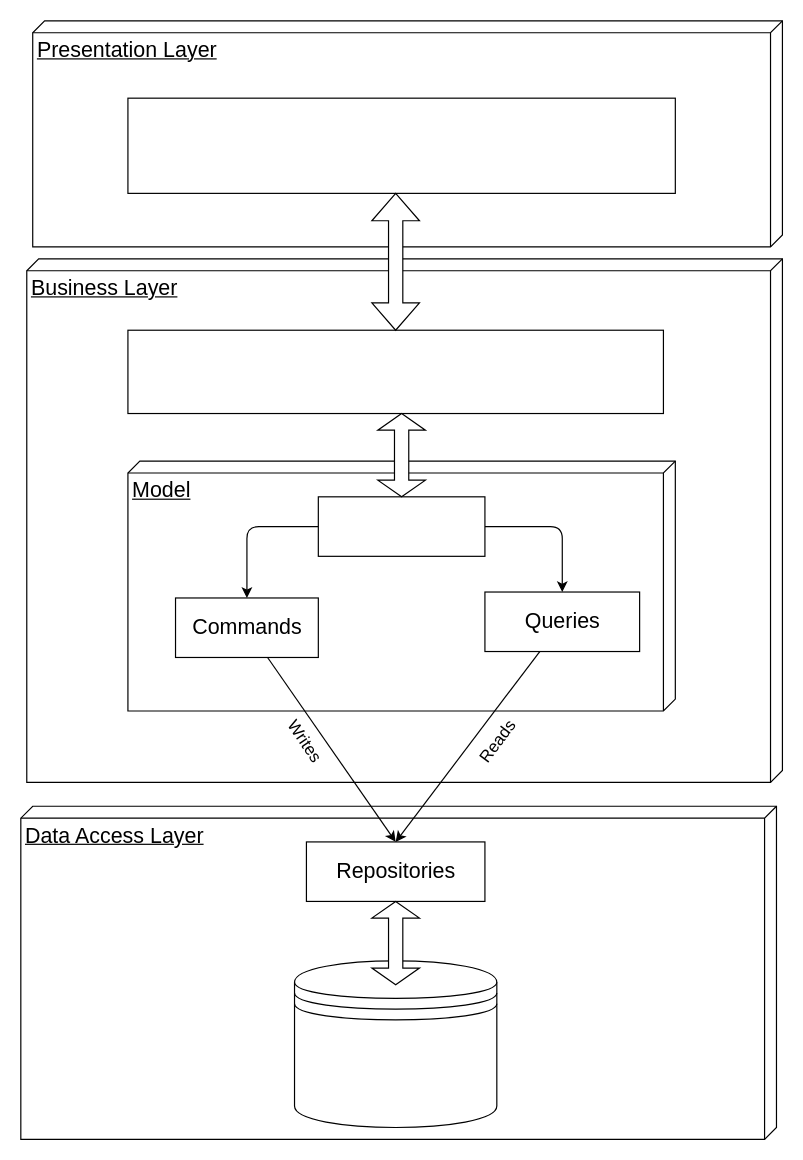
Image size: 803x1160. Some labels were removed from this diagram. The centre of each missing label's shape, as x and y in pixels:
"Controller" belongs at point (395, 371).
"Database" belongs at point (395, 1044).
"Mobile View" belongs at point (401, 145).
"Services" belongs at point (401, 526).
